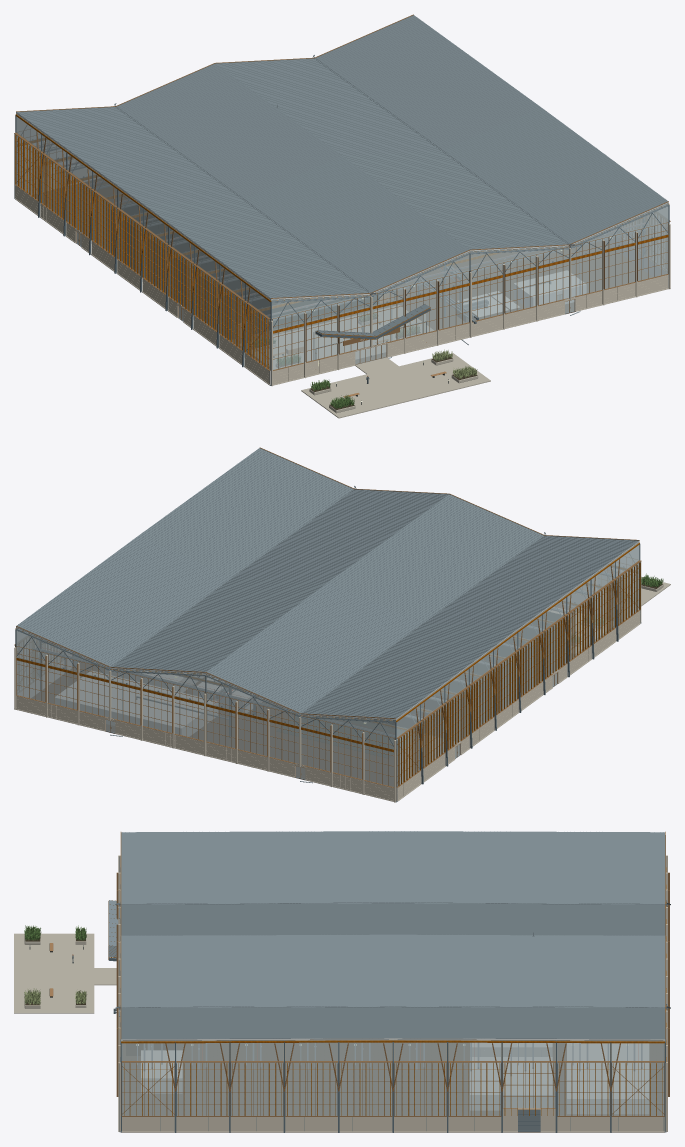
File: garden-hall.glb
The picture shows the model from 3 angles, top to bottom: view 1: azimuth 30°, elevation 25°; view 2: azimuth 150°, elevation 25°; view 3: azimuth 270°, elevation 25°; orthographic projection. The views are drawn at different scales.
Parts seen in each view (by area): view 1: events ground hall floor, GPH garden terrace, Roof_events butterfly wing0-1-1 standing-seam sheet and clip, Roof_events butterfly wing1-1-4 standing-seam sheet and clip, Roof_events butterfly wing0-1-2 standing-seam sheet and clip, Roof_events butterfly wing0-1-4 standing-seam sheet and clip, Roof_events butterfly wing1-1-3 standing-seam sheet and clip, Roof_events butterfly wing1-1-1 standing-seam sheet and clip, Roof_events butterfly wing0-1-3 standing-seam sheet and clip, Roof_events butterfly wing1-1-2 standing-seam sheet and clip, Roof_events butterfly wing0-1-6 standing-seam sheet and clip, Roof_events butterfly wing1-1-8 standing-seam sheet and clip (+43 smaller); view 2: events ground hall floor, Office suite 5000sf proposed ceiling, Roof_events butterfly wing1-1-7 standing-seam sheet and clip, Roof_events butterfly wing0-1-5 standing-seam sheet and clip, Roof_events butterfly wing0-1-8 standing-seam sheet and clip, Roof_events butterfly wing0-1-7 standing-seam sheet and clip, Roof_events butterfly wing1-1-5 standing-seam sheet and clip, Roof_events butterfly wing1-1-6 standing-seam sheet and clip, Roof_events butterfly wing1-1-8 standing-seam sheet and clip, Roof_events butterfly wing0-1-6 standing-seam sheet and clip, Roof_events butterfly wing0-1-2 standing-seam sheet and clip, Roof_events butterfly wing1-1-4 standing-seam sheet and clip (+42 smaller); view 3: events ground hall floor, GPH garden terrace, Roof_events butterfly wing0-0-4 standing-seam sheet and clip, Roof_events butterfly wing1-0-4 standing-seam sheet and clip, Roof_events butterfly wing0-0-3 standing-seam sheet and clip, Roof_events butterfly wing0-0-5 standing-seam sheet and clip, Roof_events butterfly wing0-0-6 standing-seam sheet and clip, Roof_events butterfly wing0-0-7 standing-seam sheet and clip, Roof_events butterfly wing1-0-0 standing-seam sheet and clip, Roof_events butterfly wing0-0-0 standing-seam sheet and clip, Roof_events butterfly wing1-0-1 standing-seam sheet and clip, Roof_events butterfly wing1-0-2 standing-seam sheet and clip (+58 smaller).
Part boxes in pixels (bbox=[...]): events ground hall floor: bbox=[34, 178, 651, 368]; GPH garden terrace: bbox=[301, 353, 490, 418]; Roof_events butterfly wing0-1-1 standing-seam sheet and clip: bbox=[320, 212, 443, 274]; Roof_events butterfly wing1-1-4 standing-seam sheet and clip: bbox=[442, 107, 566, 169]; Roof_events butterfly wing0-1-2 standing-seam sheet and clip: bbox=[294, 193, 418, 255]; Roof_events butterfly wing0-1-4 standing-seam sheet and clip: bbox=[243, 156, 367, 217]; Roof_events butterfly wing1-1-3 standing-seam sheet and clip: bbox=[467, 126, 591, 188]; Roof_events butterfly wing1-1-1 standing-seam sheet and clip: bbox=[518, 164, 642, 225]; Roof_events butterfly wing0-1-3 standing-seam sheet and clip: bbox=[269, 175, 392, 236]; Roof_events butterfly wing1-1-2 standing-seam sheet and clip: bbox=[493, 145, 617, 206]; Roof_events butterfly wing0-1-6 standing-seam sheet and clip: bbox=[192, 119, 316, 180]; Roof_events butterfly wing1-1-8 standing-seam sheet and clip: bbox=[340, 33, 464, 94]; events ground hall floor: bbox=[32, 604, 621, 786]; Office suite 5000sf proposed ceiling: bbox=[56, 671, 216, 727]; Roof_events butterfly wing1-1-7 standing-seam sheet and clip: bbox=[65, 572, 183, 631]; Roof_events butterfly wing0-1-5 standing-seam sheet and clip: bbox=[303, 582, 422, 641]; Roof_events butterfly wing0-1-8 standing-seam sheet and clip: bbox=[230, 636, 348, 695]; Roof_events butterfly wing0-1-7 standing-seam sheet and clip: bbox=[255, 618, 373, 677]; Roof_events butterfly wing1-1-5 standing-seam sheet and clip: bbox=[113, 536, 232, 595]; Roof_events butterfly wing1-1-6 standing-seam sheet and clip: bbox=[89, 554, 207, 613]; Roof_events butterfly wing1-1-8 standing-seam sheet and clip: bbox=[40, 590, 159, 649]; Roof_events butterfly wing0-1-6 standing-seam sheet and clip: bbox=[279, 600, 397, 659]; Roof_events butterfly wing0-1-2 standing-seam sheet and clip: bbox=[377, 529, 495, 588]; Roof_events butterfly wing1-1-4 standing-seam sheet and clip: bbox=[138, 518, 256, 577]; events ground hall floor: bbox=[121, 1043, 664, 1132]; GPH garden terrace: bbox=[14, 933, 94, 1013]; Roof_events butterfly wing0-0-4 standing-seam sheet and clip: bbox=[338, 831, 393, 903]; Roof_events butterfly wing1-0-4 standing-seam sheet and clip: bbox=[338, 934, 393, 1006]; Roof_events butterfly wing0-0-3 standing-seam sheet and clip: bbox=[284, 831, 338, 903]; Roof_events butterfly wing0-0-5 standing-seam sheet and clip: bbox=[393, 831, 447, 903]; Roof_events butterfly wing0-0-6 standing-seam sheet and clip: bbox=[447, 831, 501, 903]; Roof_events butterfly wing0-0-7 standing-seam sheet and clip: bbox=[502, 831, 556, 903]; Roof_events butterfly wing1-0-0 standing-seam sheet and clip: bbox=[121, 935, 175, 1007]; Roof_events butterfly wing0-0-0 standing-seam sheet and clip: bbox=[121, 832, 175, 904]; Roof_events butterfly wing1-0-1 standing-seam sheet and clip: bbox=[175, 935, 229, 1007]; Roof_events butterfly wing1-0-2 standing-seam sheet and clip: bbox=[230, 935, 284, 1007].
Size of the model in its own units: 93 by 22.19 by 123.
27 materials, 3 textured.
